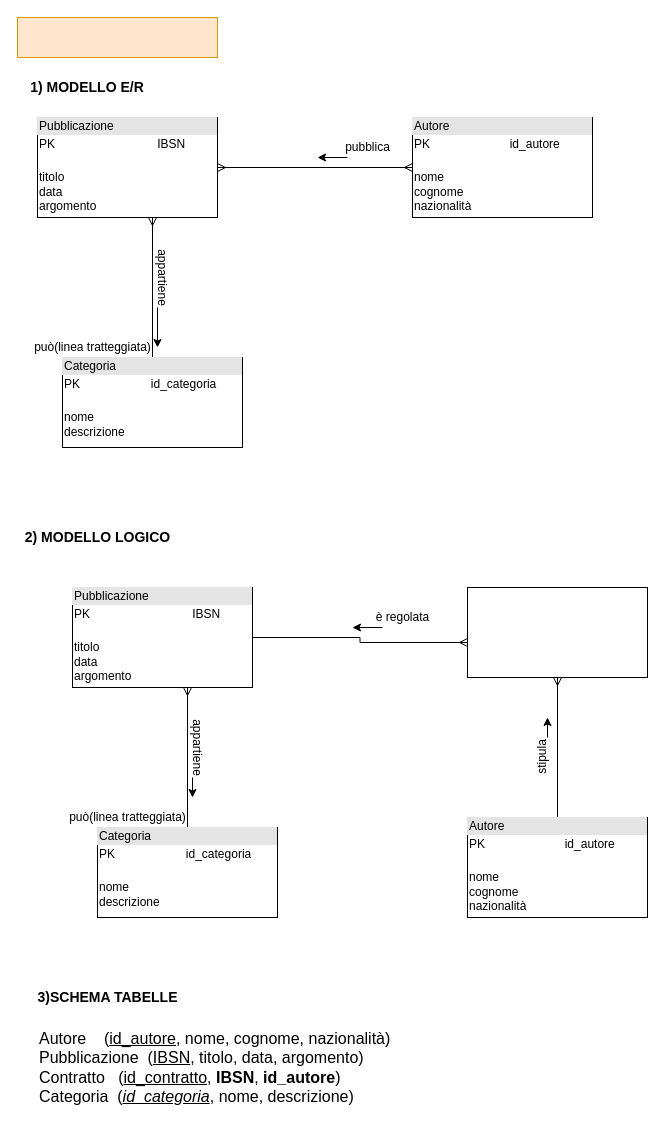
The diagram is 665 pixels wide and 1125 high, and some of its shapes have lost their labels. Here are the shapes that lost their labels. From the top down, the centre of each, then its label:
[117,37]: Pubblicazione
[557,632]: Contratto PK id_contratto FK1 IBSN d_autore
